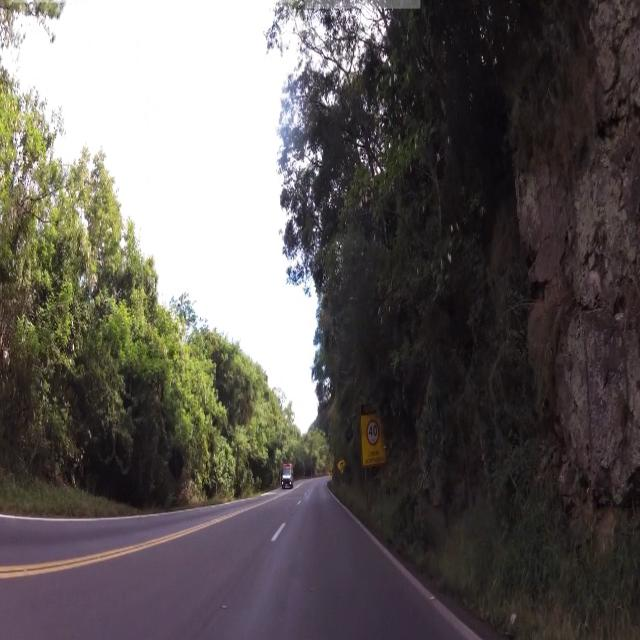R-19: (363, 416, 386, 448)
